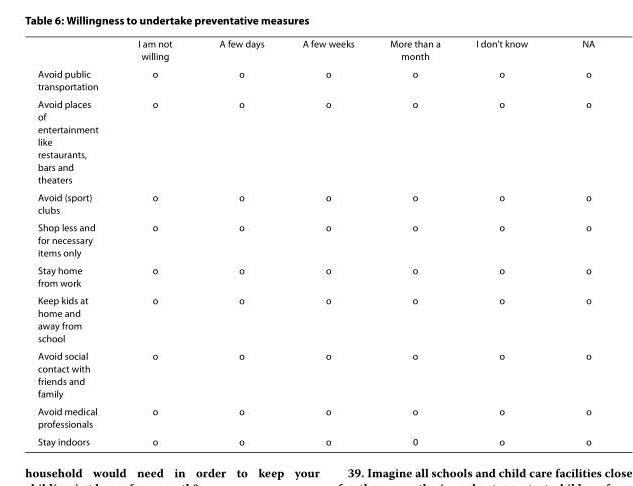table: (36, 36, 594, 446)
table column: (457, 36, 554, 446), (282, 36, 371, 446), (195, 36, 282, 446), (371, 36, 457, 446), (36, 36, 117, 446), (117, 36, 195, 446), (554, 36, 594, 446)
table column header: (36, 36, 594, 64)
table row: (36, 94, 594, 187), (36, 291, 594, 346), (36, 346, 594, 401), (36, 218, 594, 260), (36, 187, 594, 218), (36, 260, 594, 291), (36, 401, 594, 432), (36, 64, 594, 94), (36, 36, 594, 64), (36, 432, 594, 446)
